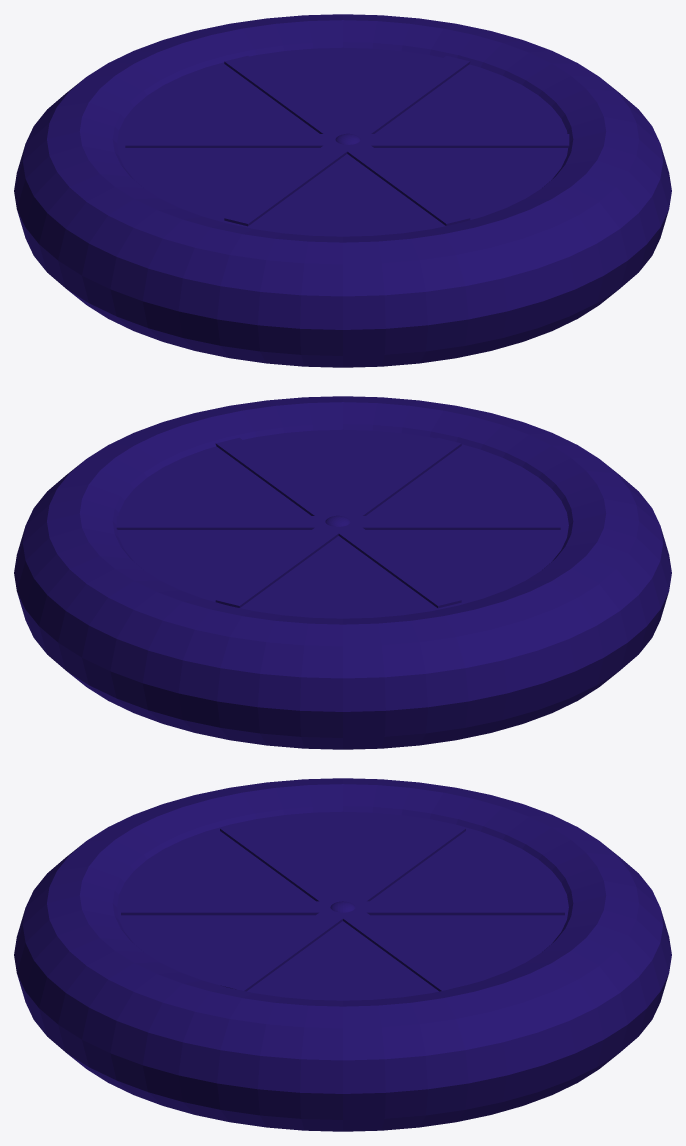
The picture shows the model from 3 angles, top to bottom: view 1: azimuth 30°, elevation 25°; view 2: azimuth 150°, elevation 25°; view 3: azimuth 270°, elevation 25°; orthographic projection.
Visible parts, largest first — view 1: tmp_export_Torus; view 2: tmp_export_Torus; view 3: tmp_export_Torus.
Part boxes in pixels (x1,y1,x2,y2): tmp_export_Torus: (14,14,671,367); tmp_export_Torus: (14,396,671,749); tmp_export_Torus: (14,778,671,1131).
Size of the model in its own units: 2.5 by 2.5 by 0.5.
